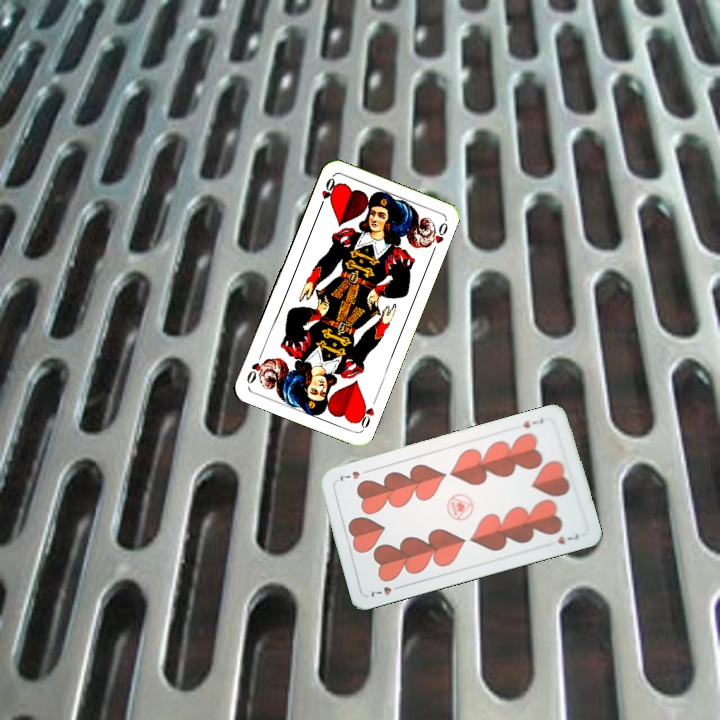H7: (367, 581, 405, 600), (519, 414, 546, 430)
HO: (353, 393, 379, 432), (315, 174, 338, 212)
